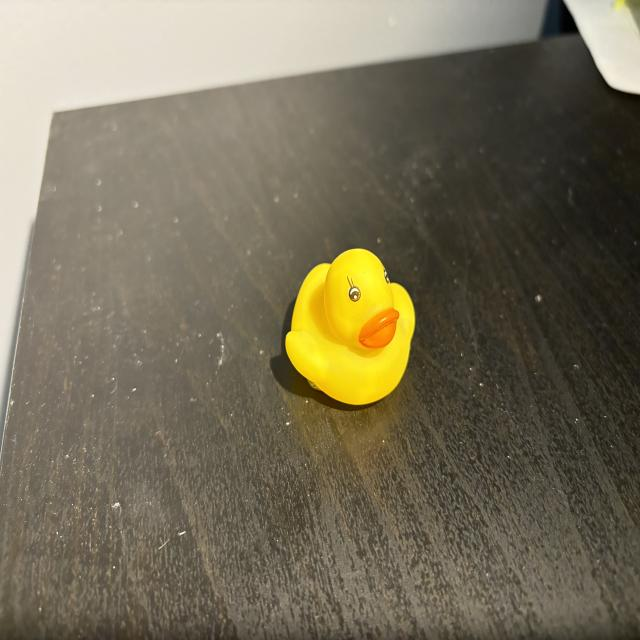duck_regular: (287, 248, 417, 406)
